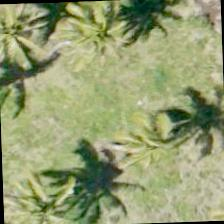Kelapa_Sawit: (103, 106, 196, 199), (50, 0, 144, 86), (2, 160, 87, 223), (0, 2, 59, 79)
